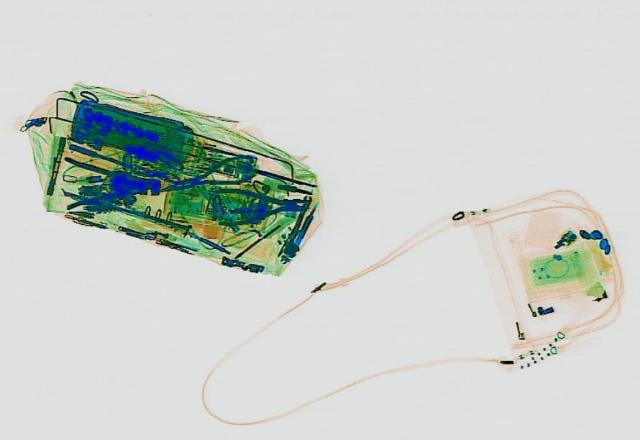Pliers: (152, 150, 264, 200), (58, 155, 160, 209), (214, 186, 310, 222)
